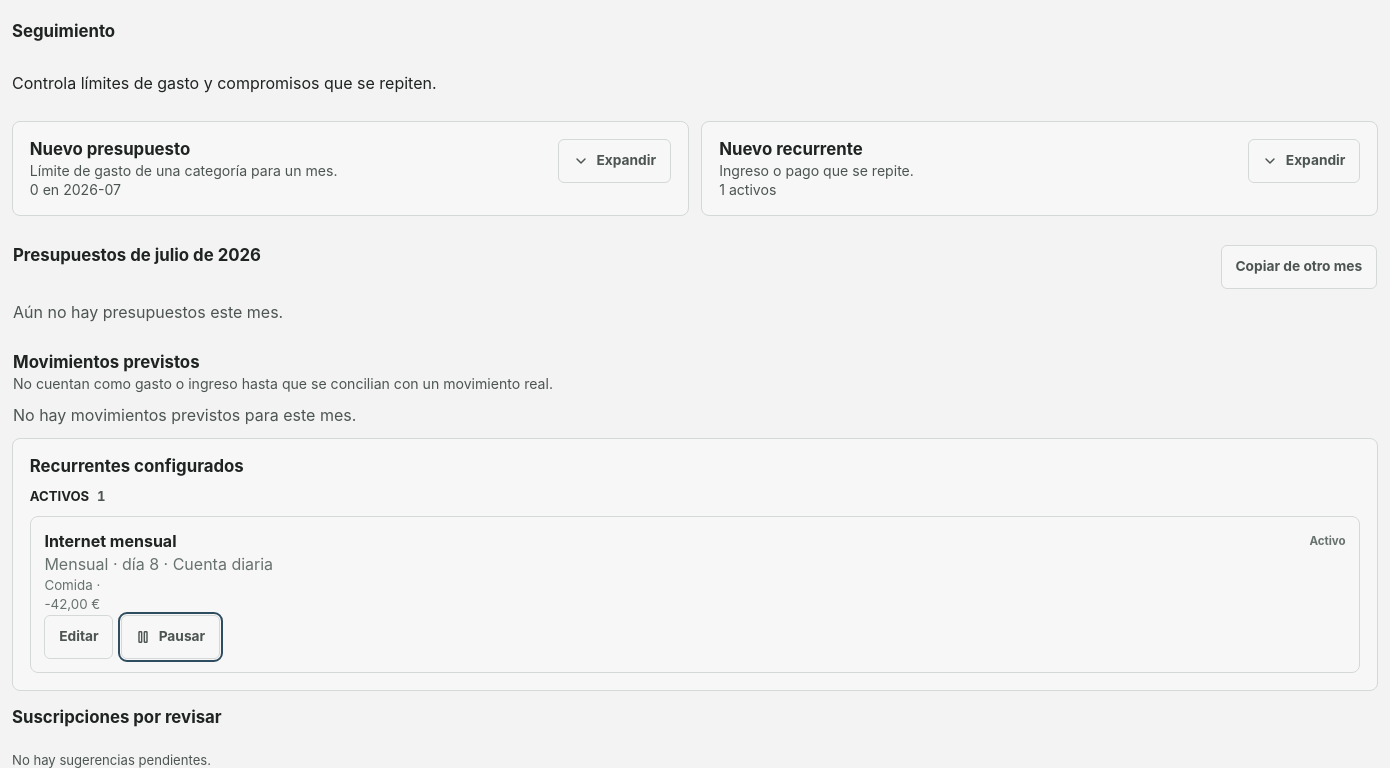
it: PlanningView › retiene foco y mueve el toggle de recurrente entre grupos
The width and height of the screenshot is (1390, 768).
(page scrolled)
What coordinates should you click on to do the following:
click the button "Pausar"
I would click on:
 (170, 637)
Its box is [120,615,220,659].
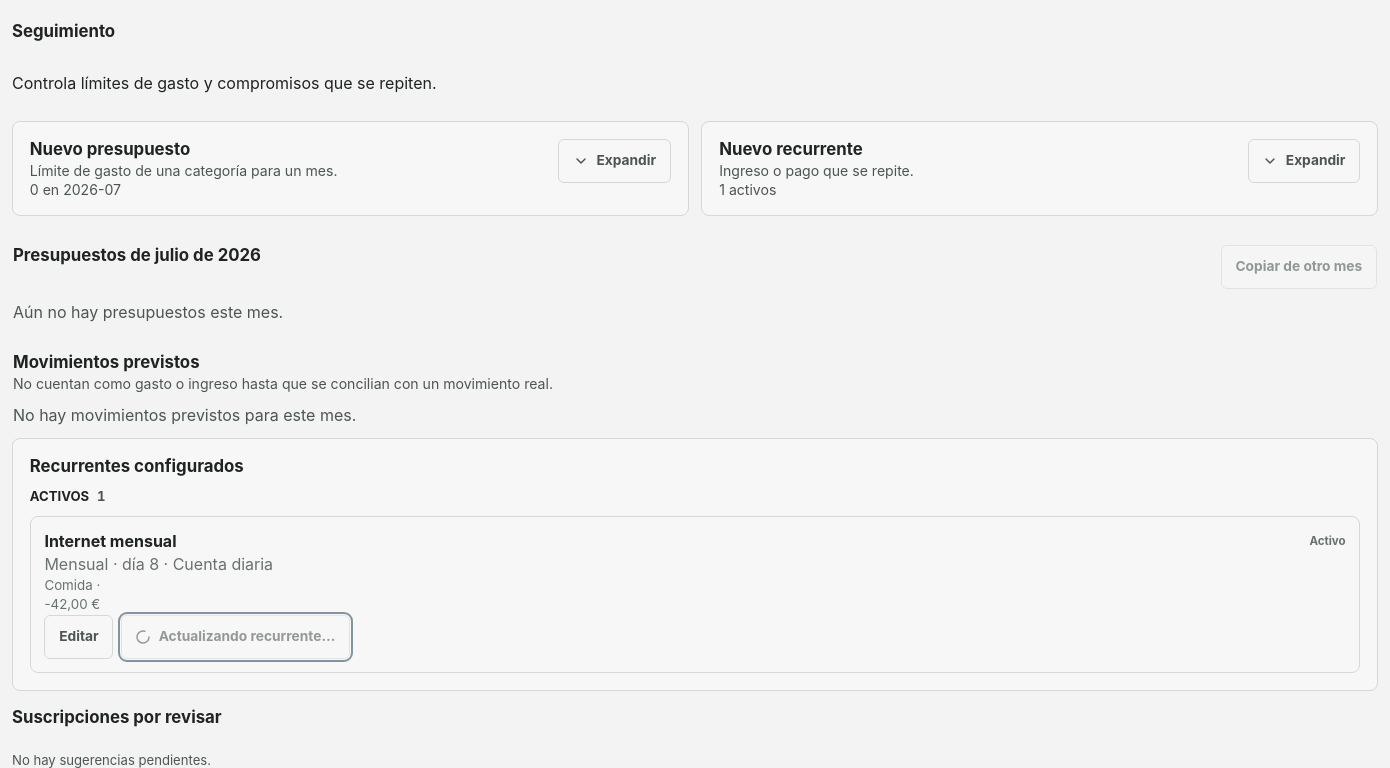
expect the button "Actualizando recurrente…" is enabled: met
What coordinates should you click on to do the following:
click the button "Actualizando recurrente…"
I would click on:
 (235, 637)
Its box is [120,615,350,659].
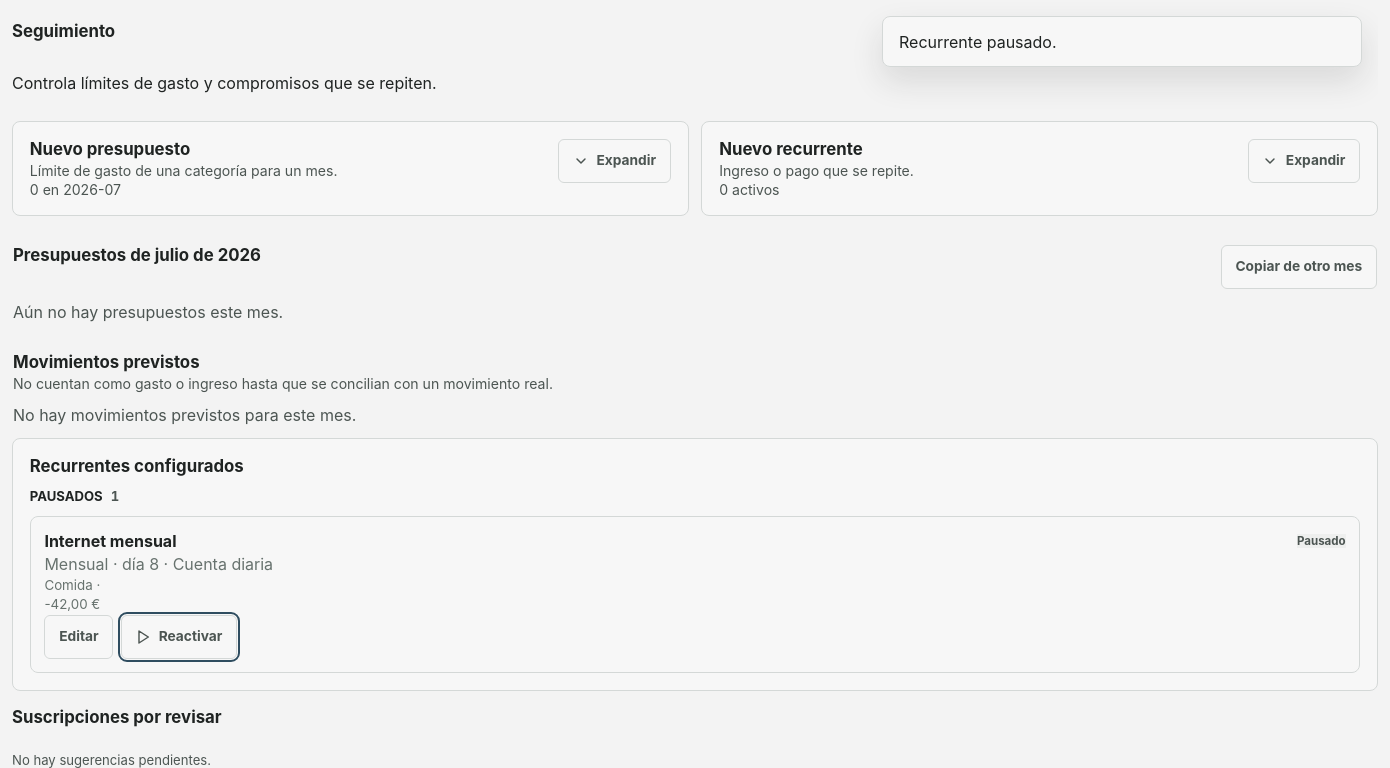
expect the message reads "Recurrente pausado.": met, box [899,32,1056,52]
What coordinates should you click on to do the following:
click the button "Reactivar"
I would click on:
 (179, 637)
Its box is [120,615,237,659].
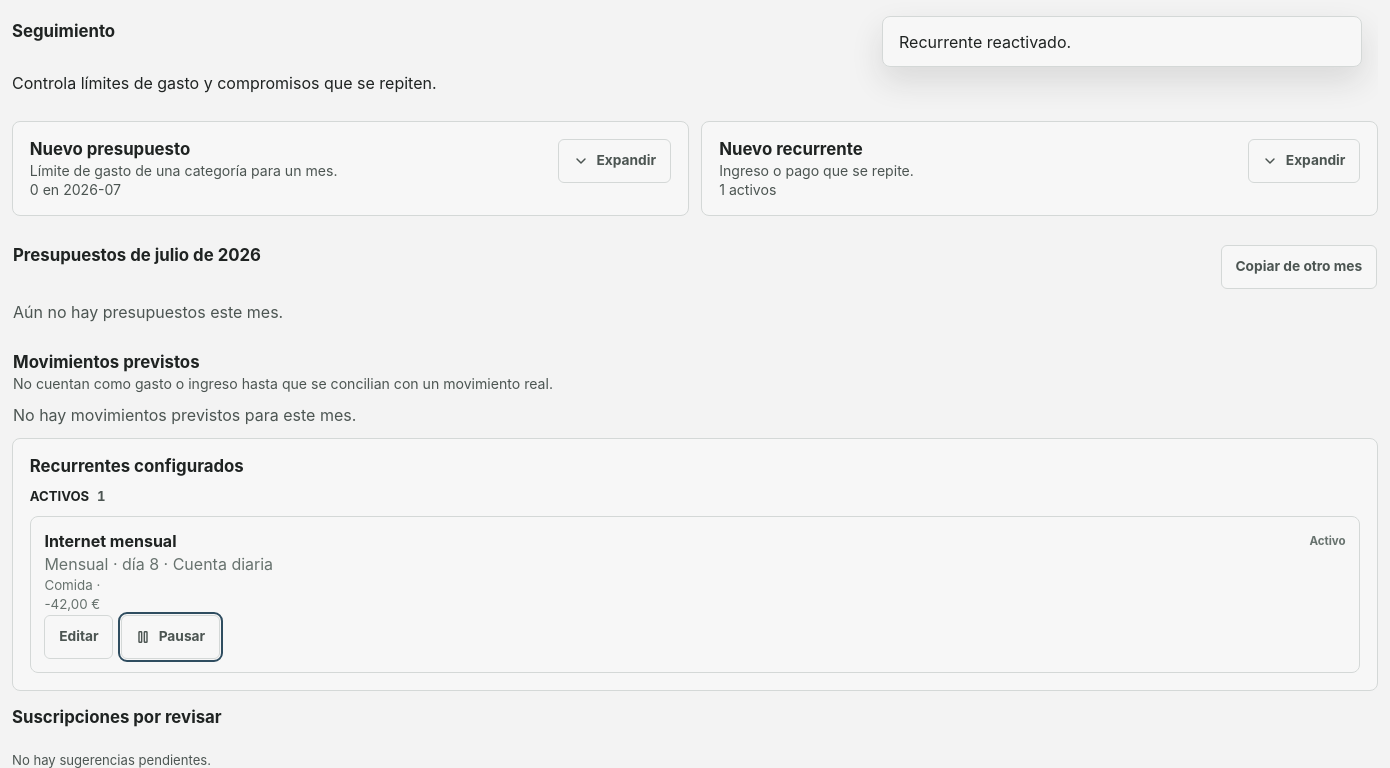
expect the message reads "Recurrente reactivado.": met, box [899,32,1071,52]
